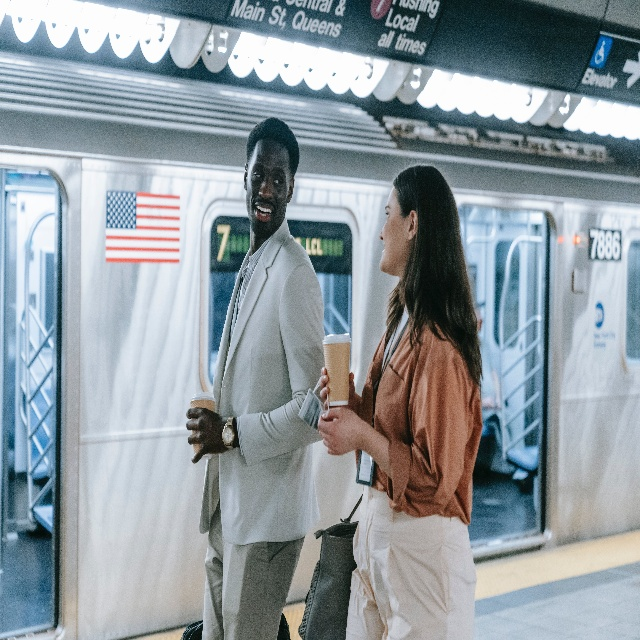Sin_guantes: (184, 405, 227, 467), (317, 401, 359, 460), (318, 363, 358, 412)
